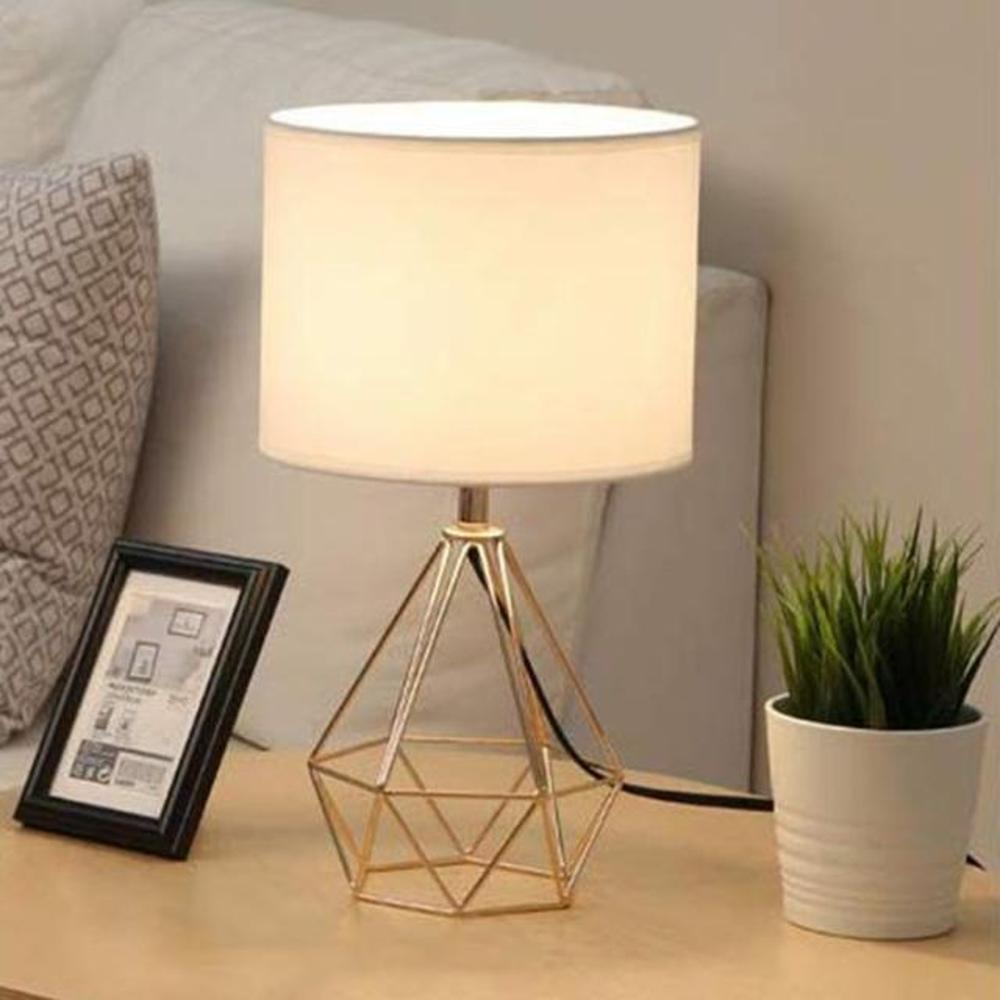shelf: (236, 52, 739, 947)
